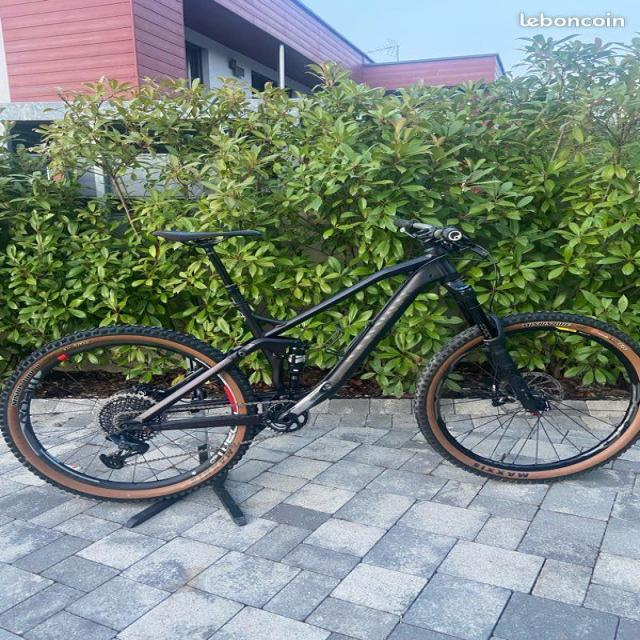Bike: (0, 219, 639, 526)
